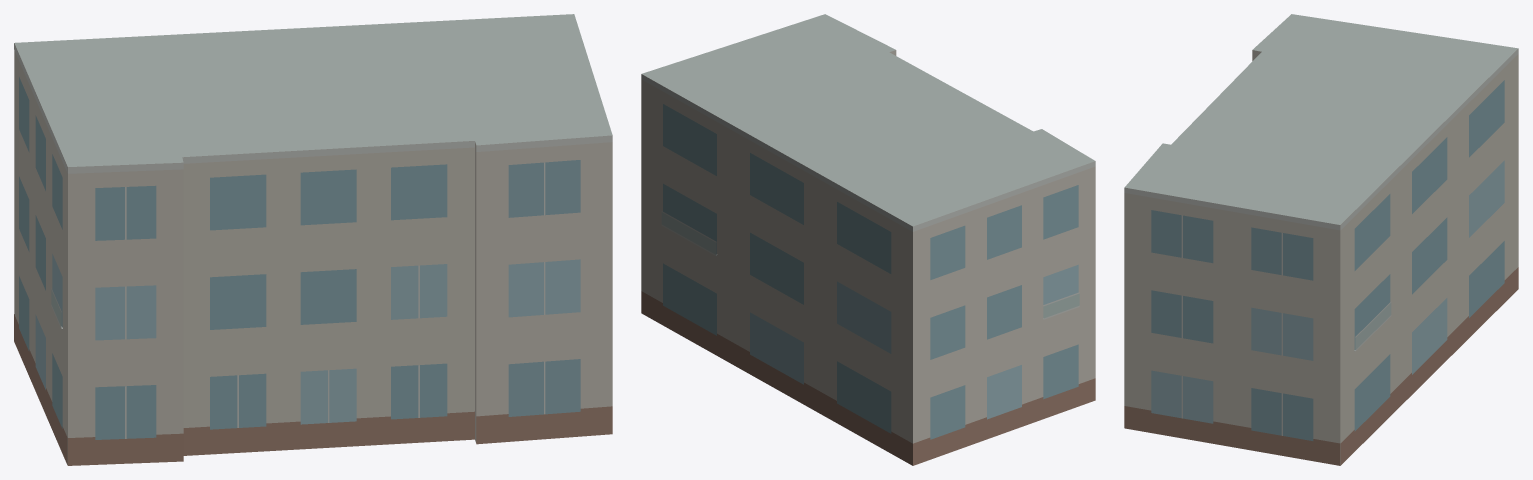
Rendered from survey-upis-32668719.glb.
3 views of the same model, side by side, from view 1: azimuth 30°, elevation 25°; view 2: azimuth 150°, elevation 25°; view 3: azimuth 270°, elevation 25° (orthographic). The views are drawn at different scales.
Parts seen in each view (by area): view 1: survey-upis-32668719.tmp; view 2: survey-upis-32668719.tmp; view 3: survey-upis-32668719.tmp.
Boxes of the visible parts, box(x1,y1,x2,y2) form: survey-upis-32668719.tmp: box(14, 14, 612, 465); survey-upis-32668719.tmp: box(641, 14, 1095, 465); survey-upis-32668719.tmp: box(1124, 14, 1518, 465).
Size of the model in its own units: 20.5 by 10.9 by 16.18.
